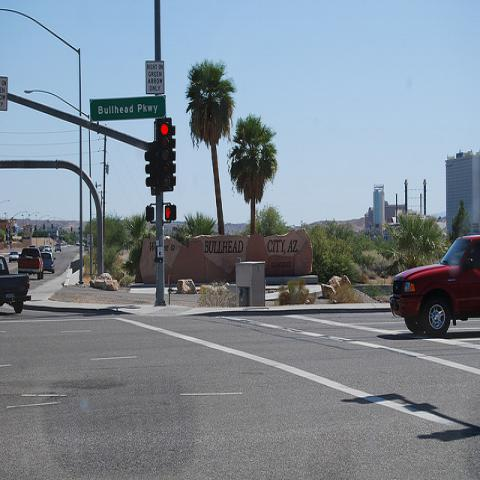car: (41, 251, 55, 274), (9, 251, 19, 262), (55, 243, 62, 252)
truck: (388, 234, 480, 338), (0, 256, 31, 314), (18, 246, 44, 283)
